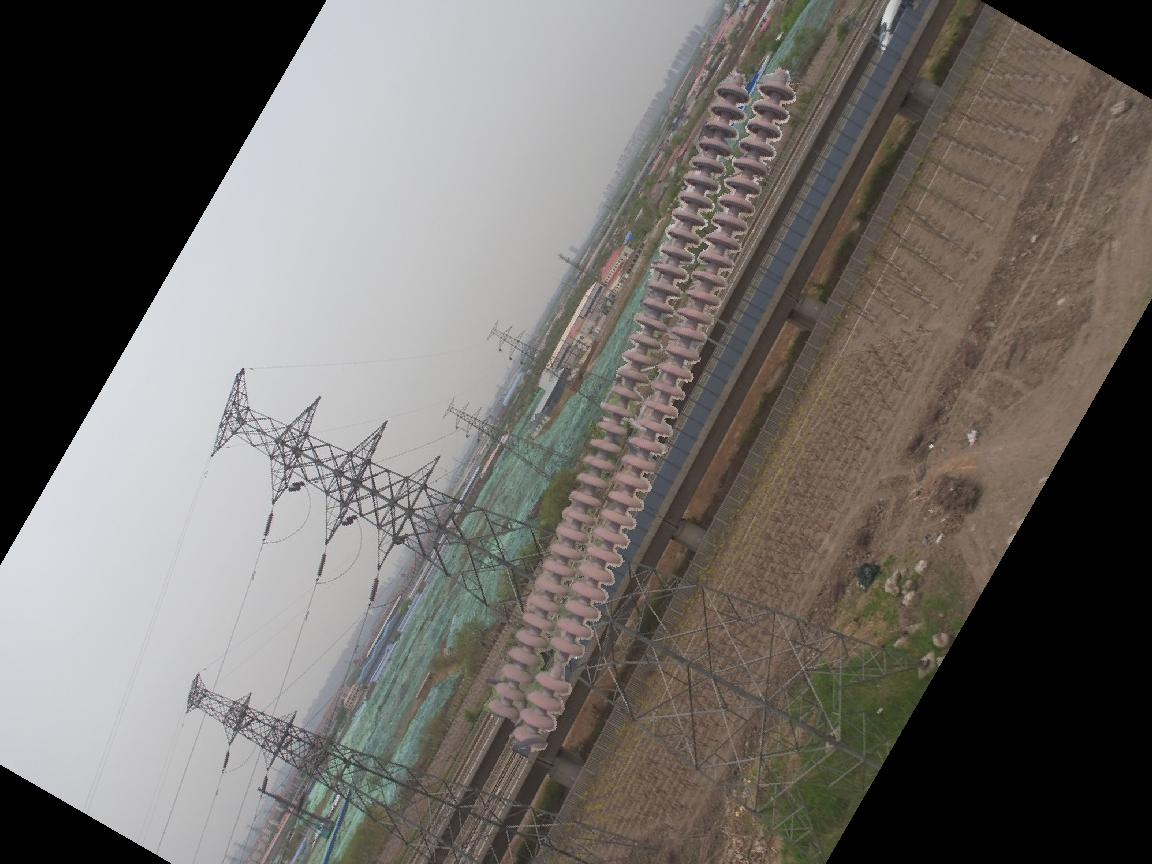insulator: (479, 66, 800, 757)
insulator_stringdrop: (533, 633, 588, 696)
